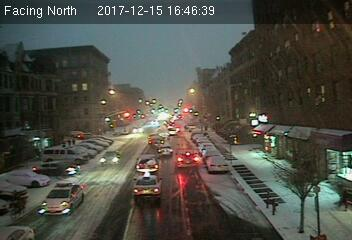bicycle: (8, 189, 27, 220)
car: (133, 172, 162, 197), (206, 155, 230, 173), (175, 151, 200, 167), (135, 154, 158, 171), (100, 151, 121, 166), (157, 146, 173, 154)
police: (37, 182, 85, 216)
